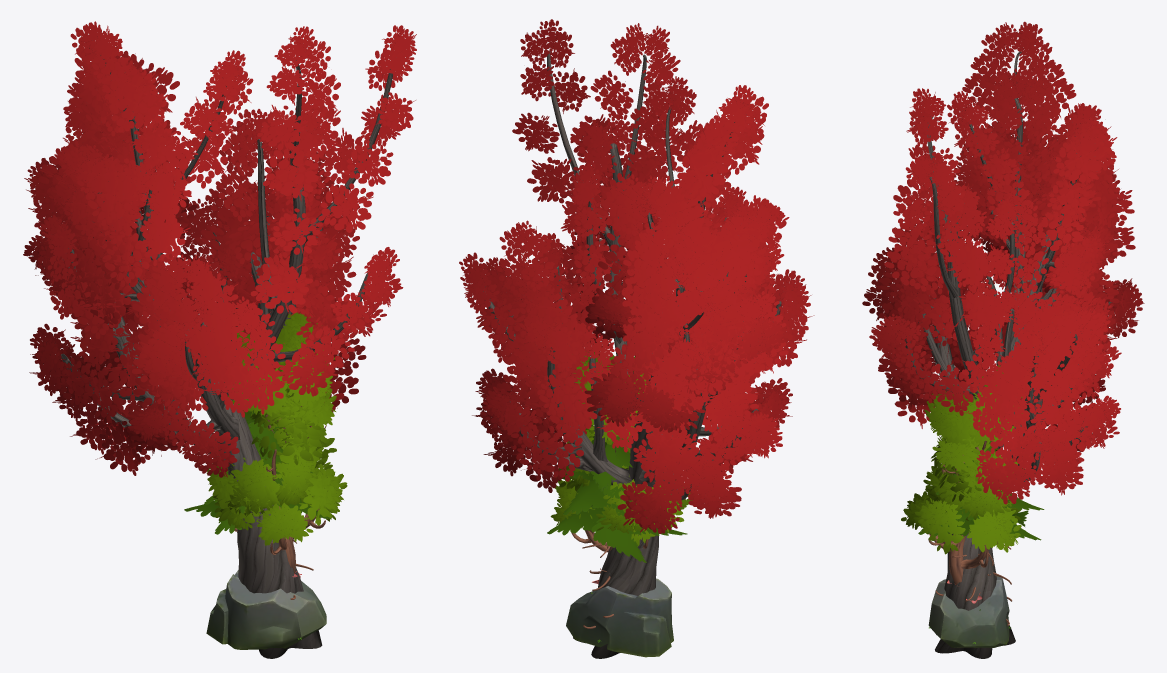
The model's file is foliage.glb.
3 renders of one model, left to right at view 1: azimuth 30°, elevation 25°; view 2: azimuth 150°, elevation 25°; view 3: azimuth 270°, elevation 25°, orthographic. The views are drawn at different scales.
Visible parts, largest first — view 1: TwistedTree_2_TwistedTree_2, CommonTree_2_CommonTree_2, Rock_Medium_2_Rock_Medium_2, CommonTree_4_CommonTree_4, Pine_3_Pine_3; view 2: TwistedTree_2_TwistedTree_2, Rock_Medium_2_Rock_Medium_2, Pine_3_Pine_3, CommonTree_2_CommonTree_2; view 3: TwistedTree_2_TwistedTree_2, CommonTree_2_CommonTree_2, Rock_Medium_2_Rock_Medium_2, CommonTree_4_CommonTree_4, Pine_3_Pine_3.
Boxes of the visible parts, x1=… form: TwistedTree_2_TwistedTree_2: x1=23, y1=21, x2=416, y2=658; CommonTree_2_CommonTree_2: x1=206, y1=384, x2=347, y2=573; Rock_Medium_2_Rock_Medium_2: x1=206, y1=570, x2=326, y2=649; CommonTree_4_CommonTree_4: x1=228, y1=312, x2=336, y2=480; Pine_3_Pine_3: x1=184, y1=410, x2=331, y2=599; TwistedTree_2_TwistedTree_2: x1=459, y1=19, x2=814, y2=658; Rock_Medium_2_Rock_Medium_2: x1=566, y1=578, x2=673, y2=657; Pine_3_Pine_3: x1=547, y1=430, x2=687, y2=628; CommonTree_2_CommonTree_2: x1=550, y1=419, x2=692, y2=552; TwistedTree_2_TwistedTree_2: x1=862, y1=21, x2=1144, y2=658; CommonTree_2_CommonTree_2: x1=901, y1=429, x2=1025, y2=585; Rock_Medium_2_Rock_Medium_2: x1=928, y1=576, x2=1009, y2=647; CommonTree_4_CommonTree_4: x1=924, y1=365, x2=1022, y2=483; Pine_3_Pine_3: x1=918, y1=441, x2=1044, y2=625.
Size of the model in its own units: 10.56 by 18.99 by 9.2.
9 materials, 9 textured.
